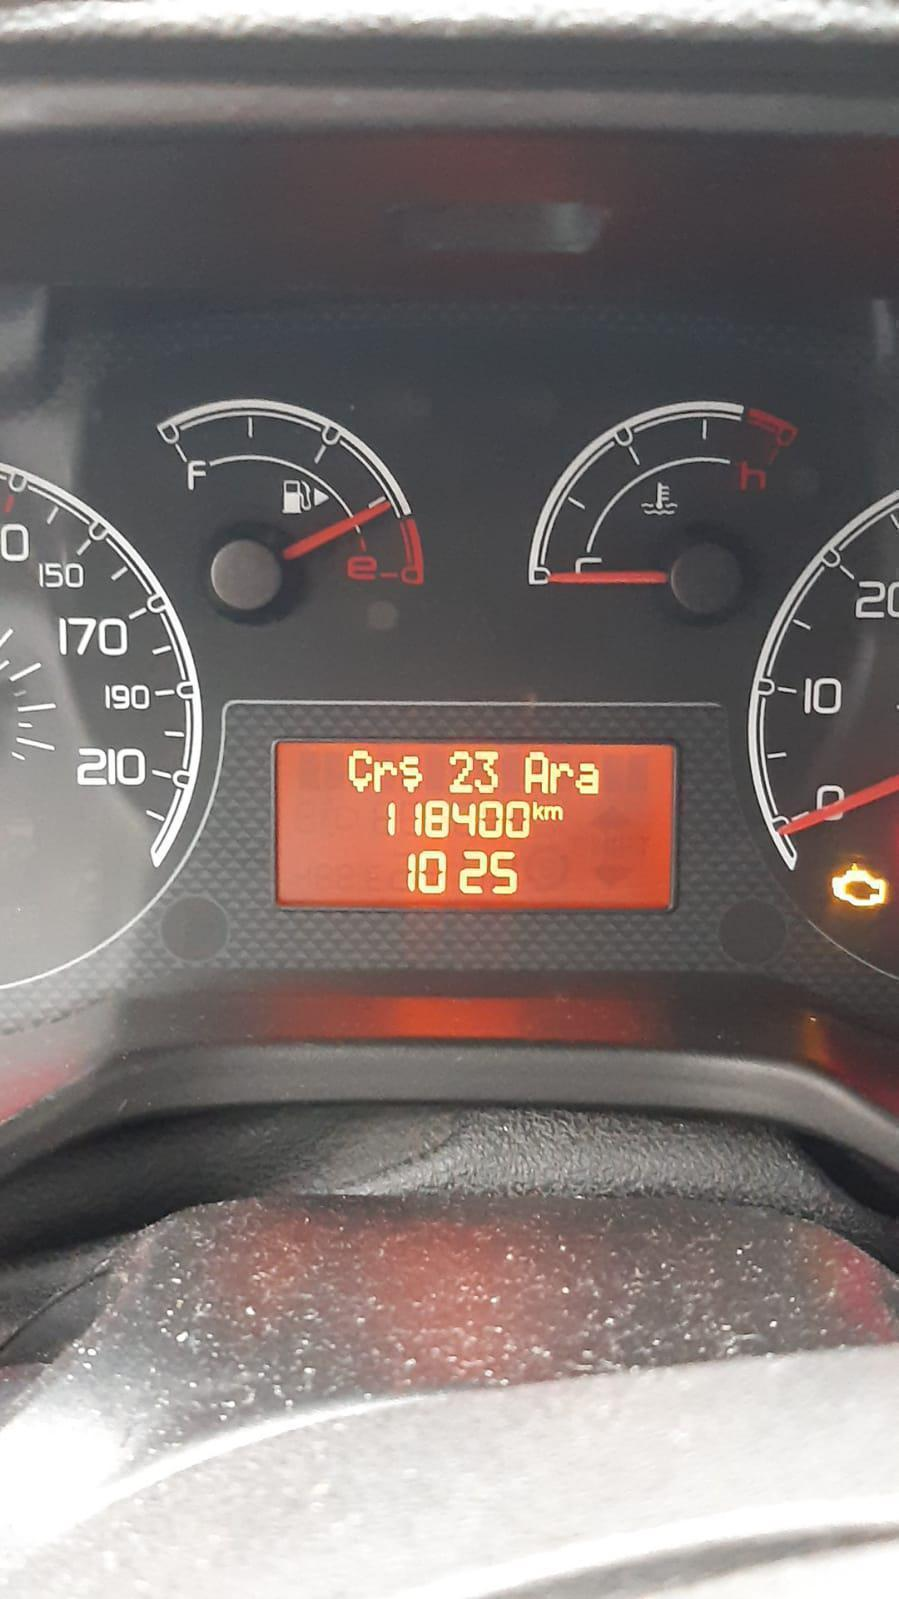0: (417, 848, 446, 897), (504, 798, 528, 841), (479, 798, 503, 841)
1: (384, 796, 398, 839), (411, 795, 423, 838), (405, 849, 416, 895)
2: (456, 848, 486, 896), (447, 747, 472, 792)
3: (474, 748, 501, 796)
4: (451, 797, 477, 837)
5: (490, 849, 520, 895)
8: (425, 798, 449, 839)
X: (346, 746, 372, 796), (522, 748, 549, 794), (398, 754, 424, 794), (575, 761, 602, 796), (373, 758, 398, 794), (550, 760, 574, 793), (544, 804, 563, 820), (531, 798, 544, 820)
odometer: (270, 736, 683, 918)
